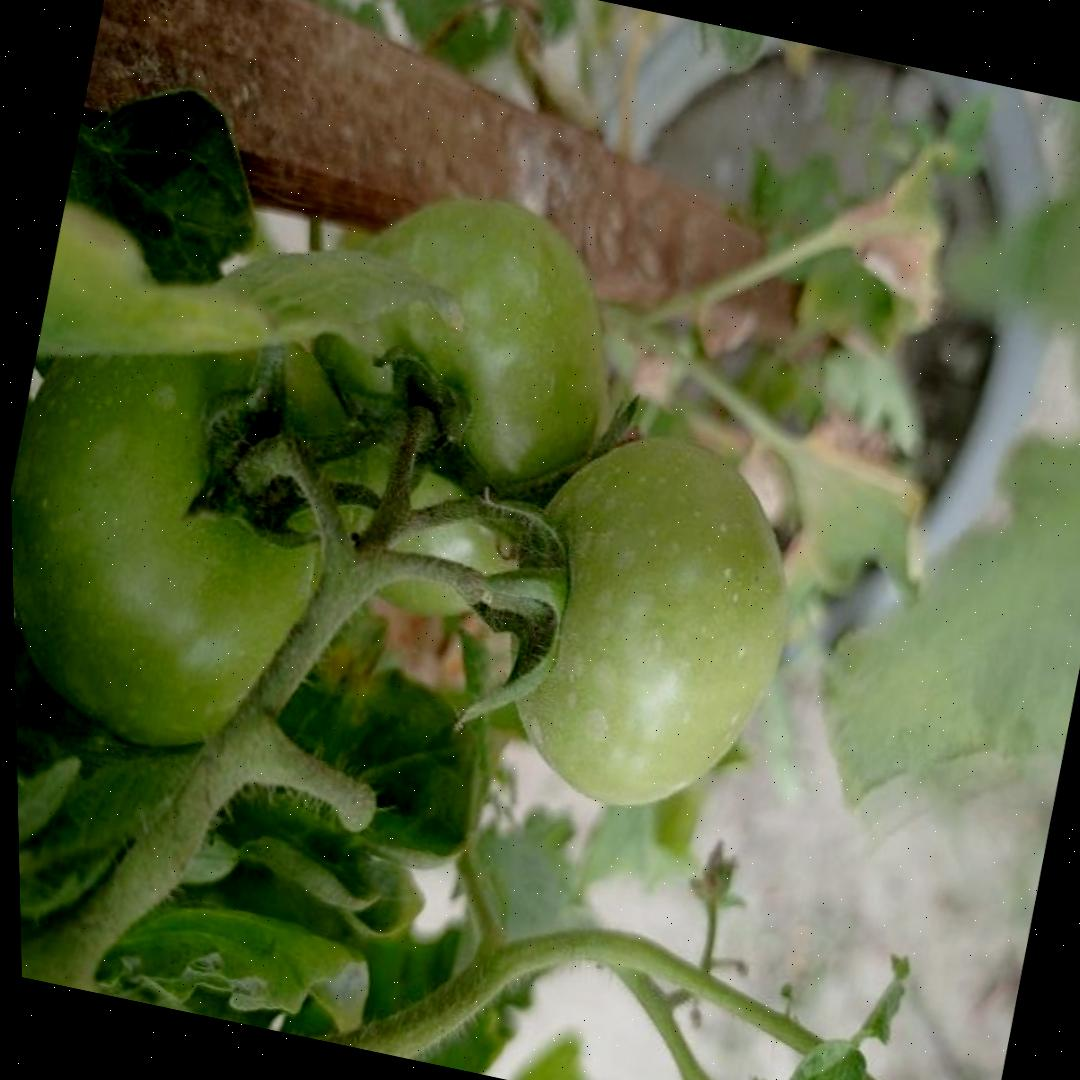mentah: (6, 251, 412, 779), (263, 167, 652, 646), (471, 408, 832, 841)
